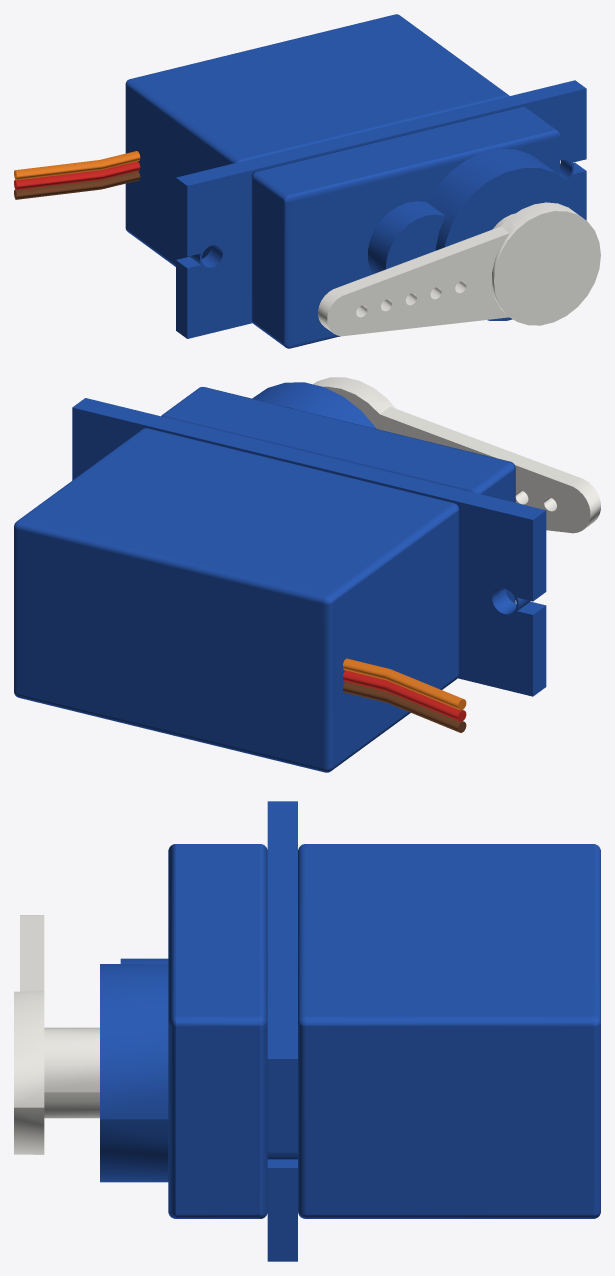
File: servo-sg90.glb
3 views of the same model, one above another, from view 1: azimuth 30°, elevation 25°; view 2: azimuth 150°, elevation 25°; view 3: azimuth 270°, elevation 25° (orthographic). The views are drawn at different scales.
Parts seen in each view (by area): view 1: body, body_top, horn, tabs, gear_tower, cable_3, cable_1, cable_2, mount_hole_1; view 2: body, tabs, body_top, horn, gear_tower, cable_3, cable_1, cable_2, mount_hole_1; view 3: body, body_top, gear_tower, tabs, horn, spline.
Boxes of the visible parts, x1,y1,x2,y2 form: body: (125, 14, 509, 266); body_top: (251, 106, 559, 348); horn: (318, 202, 600, 336); tabs: (176, 80, 586, 338); gear_tower: (368, 149, 585, 320); cable_3: (14, 151, 140, 180); cable_1: (14, 171, 140, 199); cable_2: (14, 161, 140, 189); mount_hole_1: (189, 243, 224, 269); body: (14, 428, 458, 772); tabs: (72, 398, 546, 696); body_top: (161, 387, 515, 603); horn: (313, 377, 600, 533); gear_tower: (252, 382, 376, 428); cable_3: (343, 658, 466, 710); cable_1: (343, 681, 466, 732); cable_2: (343, 670, 466, 721); mount_hole_1: (490, 586, 530, 616); body: (298, 844, 600, 1218); body_top: (168, 844, 267, 1218); gear_tower: (100, 958, 168, 1182); tabs: (267, 801, 297, 1261); horn: (14, 915, 44, 1154); spline: (44, 1027, 99, 1118).
Bounding box in the file's own units: 36.29 × 11.85 × 31.
